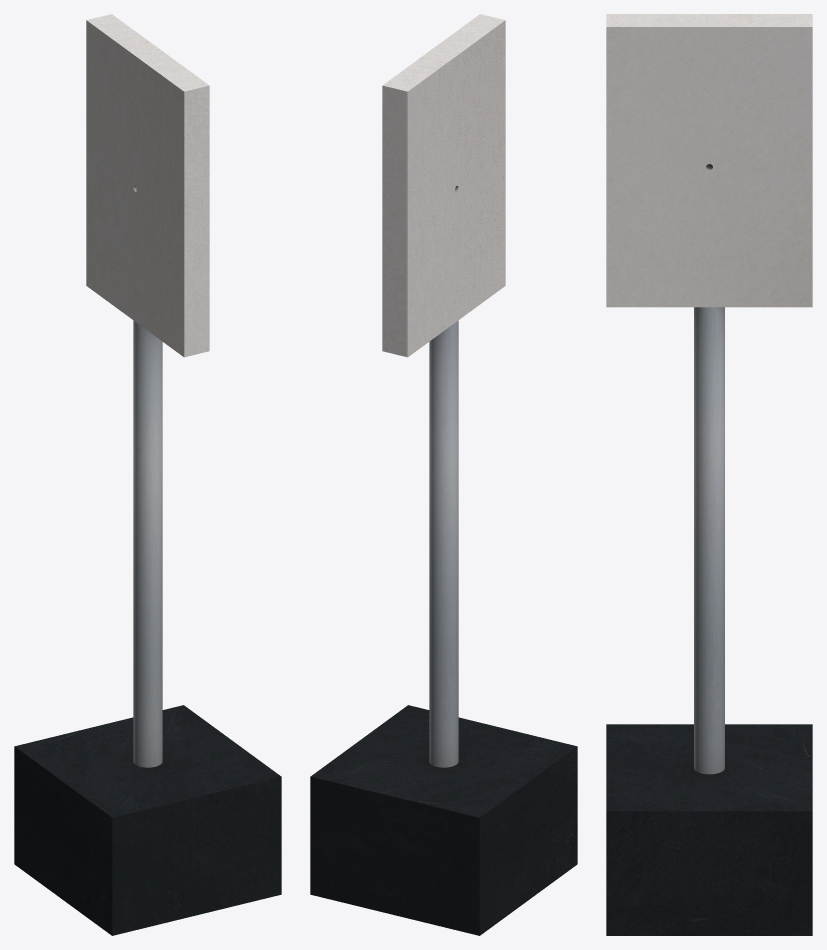
Rendered from Small_Hole.fbx.
The picture shows the model from 3 angles, left to right: view 1: azimuth 30°, elevation 25°; view 2: azimuth 150°, elevation 25°; view 3: azimuth 270°, elevation 25°; orthographic projection. The views are drawn at different scales.
Parts seen in each view (by area): view 1: Small_Hole; view 2: Small_Hole; view 3: Small_Hole.
Boxes of the visible parts, x1,y1,x2,y2 form: Small_Hole: [14, 14, 281, 935]; Small_Hole: [310, 14, 577, 935]; Small_Hole: [606, 14, 812, 935].
Bounding box in the file's own units: 1.2 × 5.6 × 1.2.
